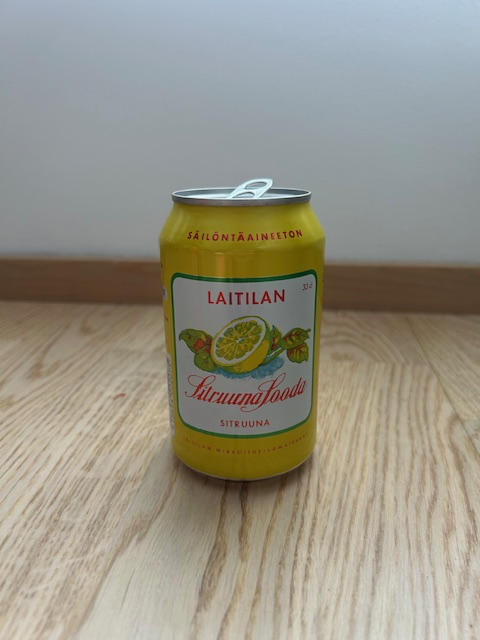Pantburk: (158, 177, 326, 481)
